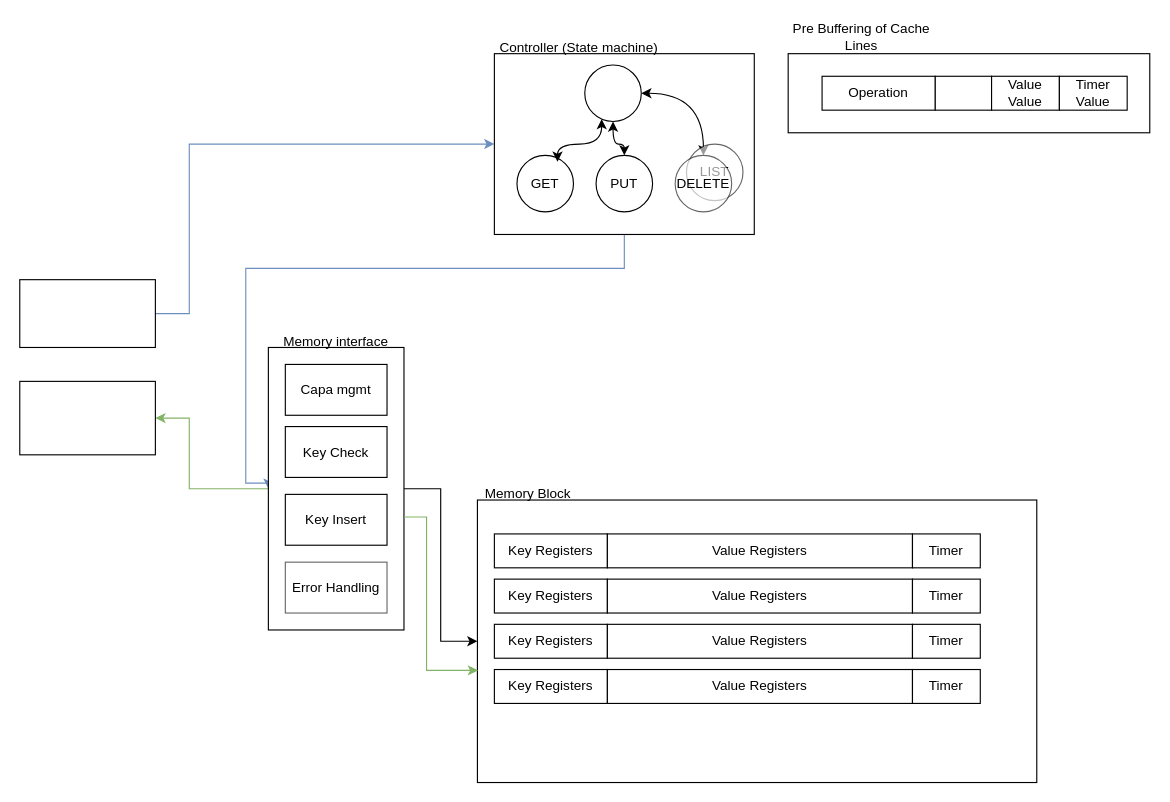
The diagram is 1170 pixels wide and 802 high, and some of its shapes have lost their labels. The centre of each missing label's shape, as x and y in pixels:
"CommanD interface (Control Registers)" belongs at point 87,313.
"Data interface" belongs at point 87,417.
"idle" belongs at point 612,92.
"Key Value" belongs at point 963,92.
